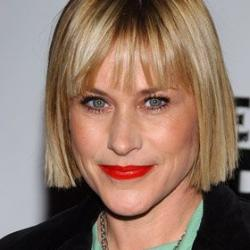face: (24, 1, 245, 210)
